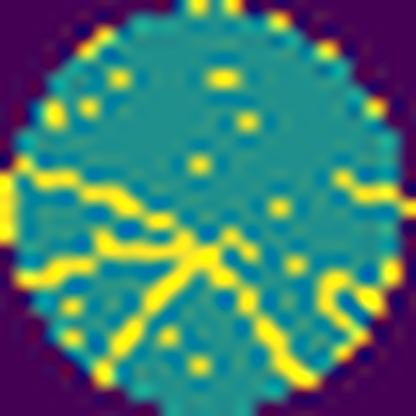Scratch: (12, 152, 321, 394), (311, 266, 389, 360), (327, 167, 416, 218)
